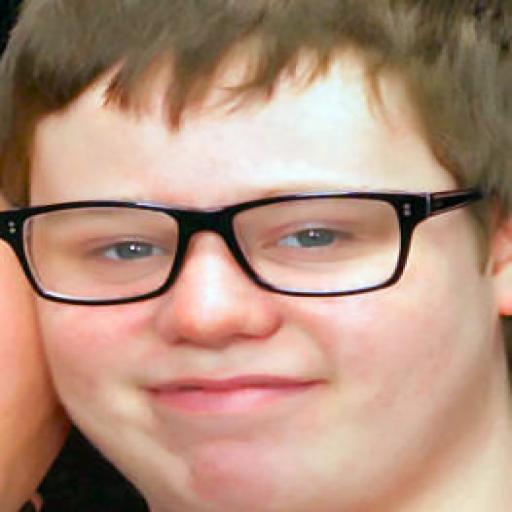Autism: (9, 3, 512, 511)
